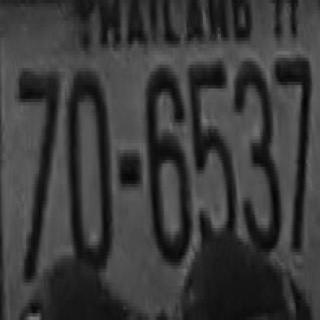N00: (65, 68, 110, 266)
N01: (287, 53, 309, 250)
N03: (232, 58, 279, 249)
N05: (188, 58, 233, 245)
N06: (145, 65, 189, 259)
N07: (16, 66, 57, 271), (15, 66, 58, 233), (273, 54, 310, 245), (16, 66, 57, 216)
